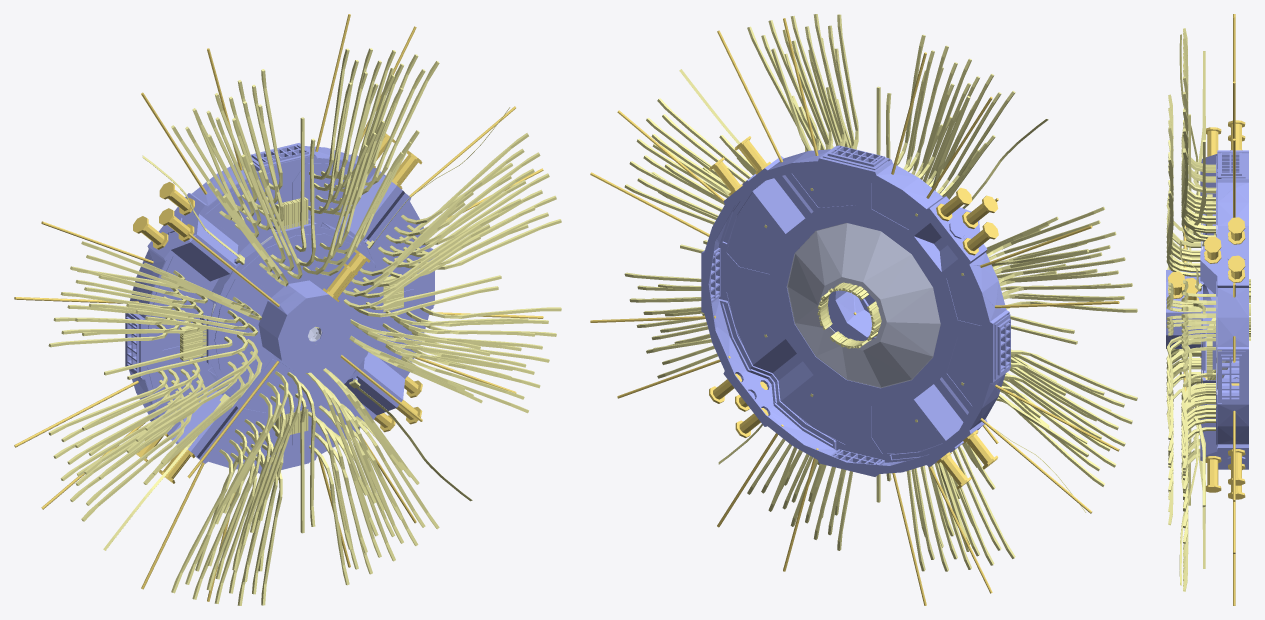
File: pixel-pp1-side-A.glb
The picture shows the model from 3 angles, left to right: view 1: azimuth 30°, elevation 25°; view 2: azimuth 150°, elevation 25°; view 3: azimuth 270°, elevation 25°; orthographic projection. The views are drawn at different scales.
Visible parts, largest first — view 1: _000001AD33069CC0_02_IndexedFaceSet, _000001AD33070C50_11_IndexedFaceSet, _000001AD330740D0_IndexedFaceSet; view 2: _000001AD33070C50_11_IndexedFaceSet, _000001AD33069CC0_02_IndexedFaceSet, _000001AD330776A0_IndexedFaceSet, _000001AD330740D0_IndexedFaceSet; view 3: _000001AD33069CC0_02_IndexedFaceSet, _000001AD33070C50_11_IndexedFaceSet, _000001AD330740D0_IndexedFaceSet, _000001AD330776A0_IndexedFaceSet.
Boxes of the visible parts, box(x1,y1,x2,y2) form: _000001AD33069CC0_02_IndexedFaceSet: box(48, 48, 561, 605); _000001AD33070C50_11_IndexedFaceSet: box(125, 143, 434, 473); _000001AD330740D0_IndexedFaceSet: box(14, 14, 543, 601); _000001AD33070C50_11_IndexedFaceSet: box(701, 145, 1010, 476); _000001AD33069CC0_02_IndexedFaceSet: box(624, 14, 1137, 571); _000001AD330776A0_IndexedFaceSet: box(787, 223, 940, 387); _000001AD330740D0_IndexedFaceSet: box(590, 18, 1119, 605); _000001AD33069CC0_02_IndexedFaceSet: box(1166, 28, 1250, 591); _000001AD33070C50_11_IndexedFaceSet: box(1166, 150, 1248, 469); _000001AD330740D0_IndexedFaceSet: box(1168, 14, 1245, 605); _000001AD330776A0_IndexedFaceSet: box(1216, 229, 1231, 390).
Size of the model in its own units: 2.54 by 2.54 by 0.3741.
